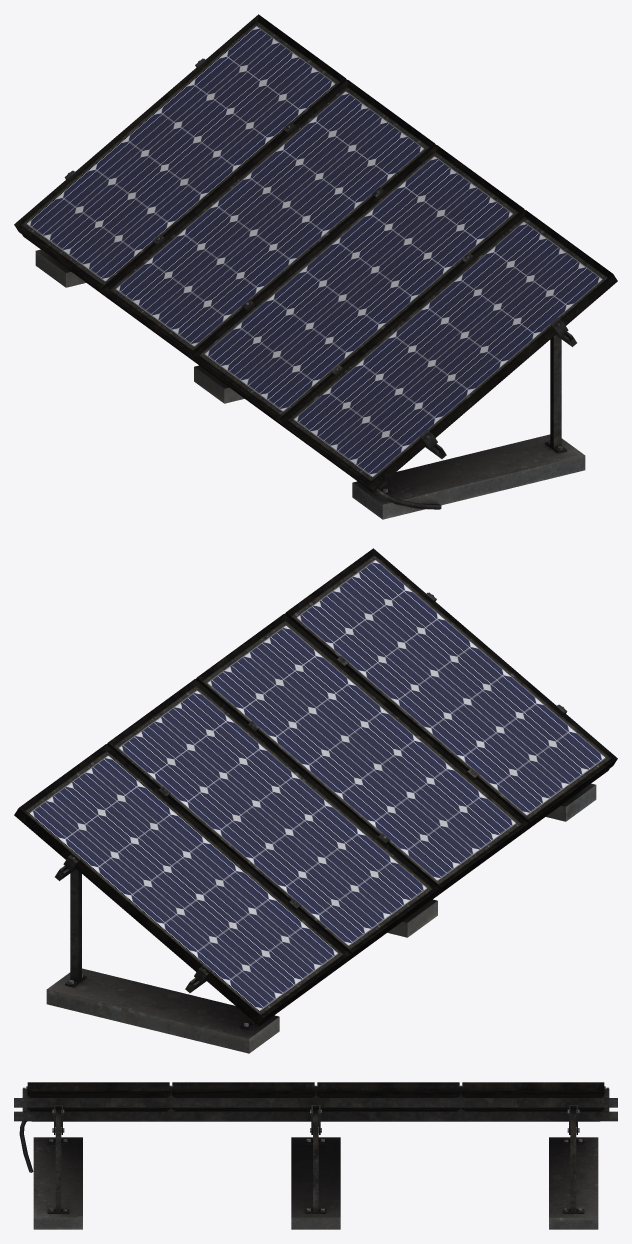
Rendered from solar_panel.obj.
3 renders of one model, top to bottom at view 1: azimuth 30°, elevation 25°; view 2: azimuth 150°, elevation 25°; view 3: azimuth 270°, elevation 25°, orthographic. The views are drawn at different scales.
Visible parts, largest first — view 1: solar_panels_roof_texture_solar_panels_roof_0; view 2: solar_panels_roof_texture_solar_panels_roof_0; view 3: solar_panels_roof_texture_solar_panels_roof_0.
Part boxes in pixels (left/top/right/bottom): solar_panels_roof_texture_solar_panels_roof_0: left=14, top=14, right=617, bottom=519; solar_panels_roof_texture_solar_panels_roof_0: left=14, top=548, right=617, bottom=1053; solar_panels_roof_texture_solar_panels_roof_0: left=14, top=1082, right=617, bottom=1229.
Size of the model in its own units: 0.659 by 0.494 by 1.7.
1 material, 1 textured.
